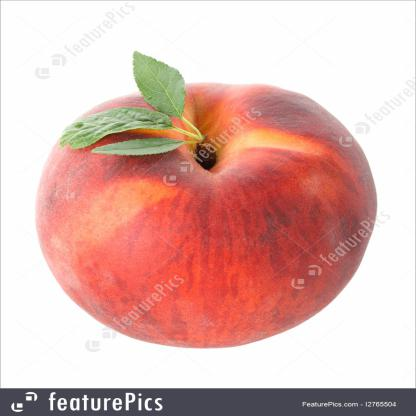peach leaf: (53, 108, 173, 146), (126, 49, 189, 117), (88, 133, 187, 161)
